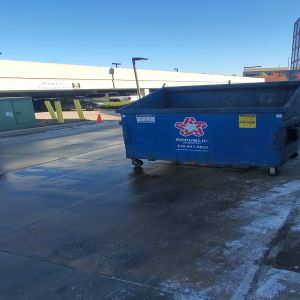Dumpster: (115, 80, 300, 177)
